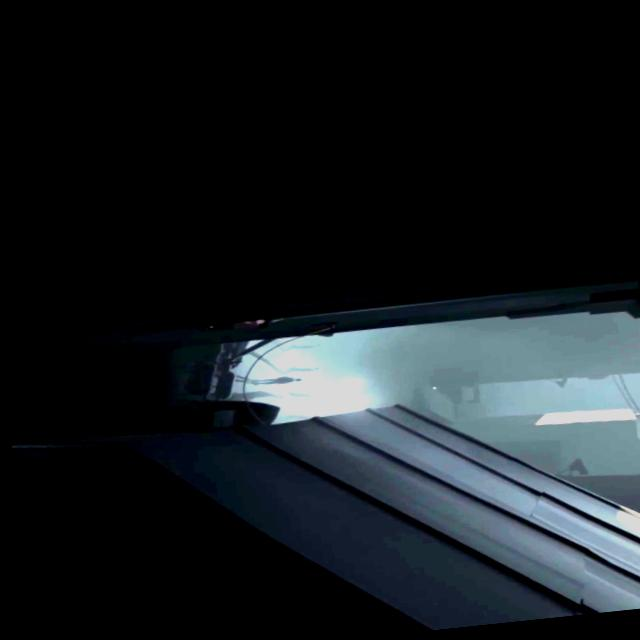boy: (200, 312, 274, 332)
zombie: (254, 372, 302, 385), (279, 340, 321, 350), (282, 363, 318, 373), (280, 388, 310, 399)
